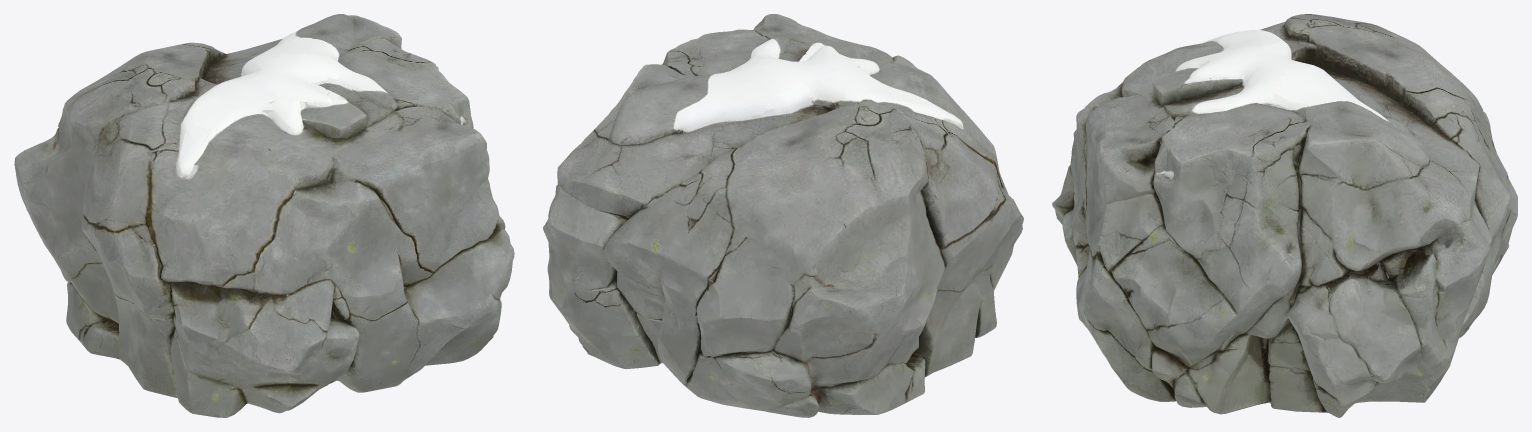
File: rock.glb
3 views of the same model, side by side, from view 1: azimuth 30°, elevation 25°; view 2: azimuth 150°, elevation 25°; view 3: azimuth 270°, elevation 25° (orthographic). The views are drawn at different scales.
Bounding box in the file's own units: 1.87 × 1.24 × 1.9.
Materials: 1 (1 with a texture image).
